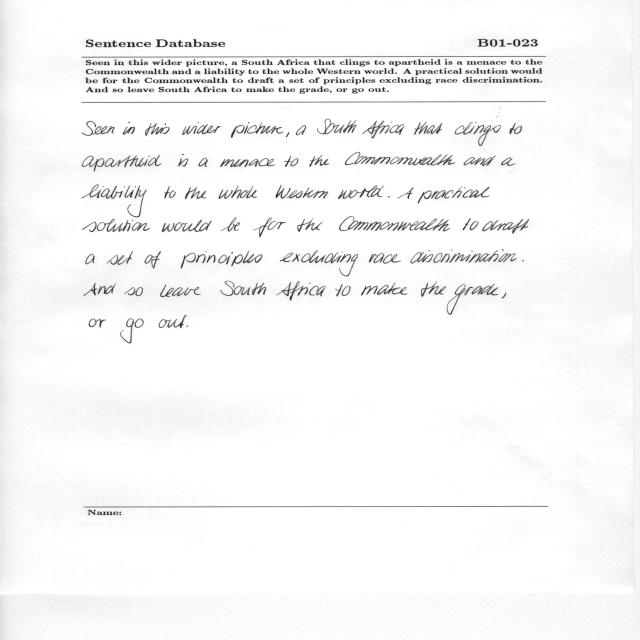word: (82, 185, 147, 217), (280, 251, 358, 277), (339, 217, 451, 232), (447, 284, 498, 315), (410, 250, 517, 264), (181, 251, 262, 269), (345, 153, 455, 166), (82, 155, 161, 172), (418, 187, 490, 203), (455, 122, 501, 146), (276, 281, 326, 301), (83, 219, 150, 232), (231, 122, 284, 138), (362, 121, 404, 139), (483, 219, 530, 234), (220, 281, 266, 296), (276, 185, 328, 198), (253, 218, 286, 238), (338, 185, 384, 199), (317, 119, 356, 135), (162, 220, 212, 232), (120, 319, 144, 344), (361, 283, 407, 296), (219, 185, 257, 199), (183, 122, 222, 135), (82, 121, 115, 136), (220, 158, 275, 167), (160, 285, 201, 297), (84, 283, 116, 296), (421, 281, 446, 297), (414, 122, 443, 135), (107, 251, 133, 265), (159, 315, 187, 328), (369, 253, 401, 264), (298, 218, 323, 232), (145, 123, 170, 136), (464, 156, 496, 166), (144, 251, 161, 269), (221, 218, 240, 232), (185, 187, 206, 199), (309, 155, 329, 167), (397, 187, 414, 199), (463, 218, 479, 230), (335, 285, 351, 297), (124, 287, 143, 296), (123, 122, 135, 135), (284, 156, 298, 167), (89, 319, 106, 328), (164, 186, 176, 198), (510, 123, 522, 134), (178, 154, 188, 167), (501, 157, 515, 166), (296, 126, 306, 136), (199, 158, 209, 167), (86, 254, 95, 264), (502, 293, 507, 299), (286, 132, 289, 137), (388, 196, 390, 198), (186, 325, 188, 327), (522, 260, 524, 261)
